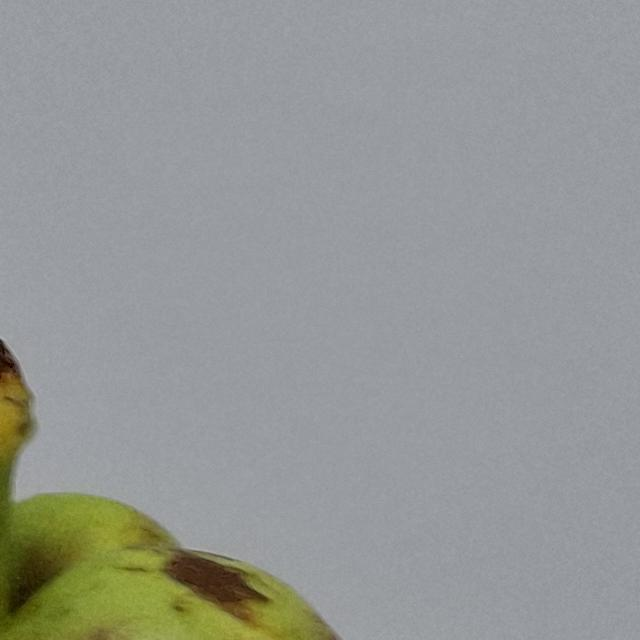mangosteen: (0, 210, 640, 640)
